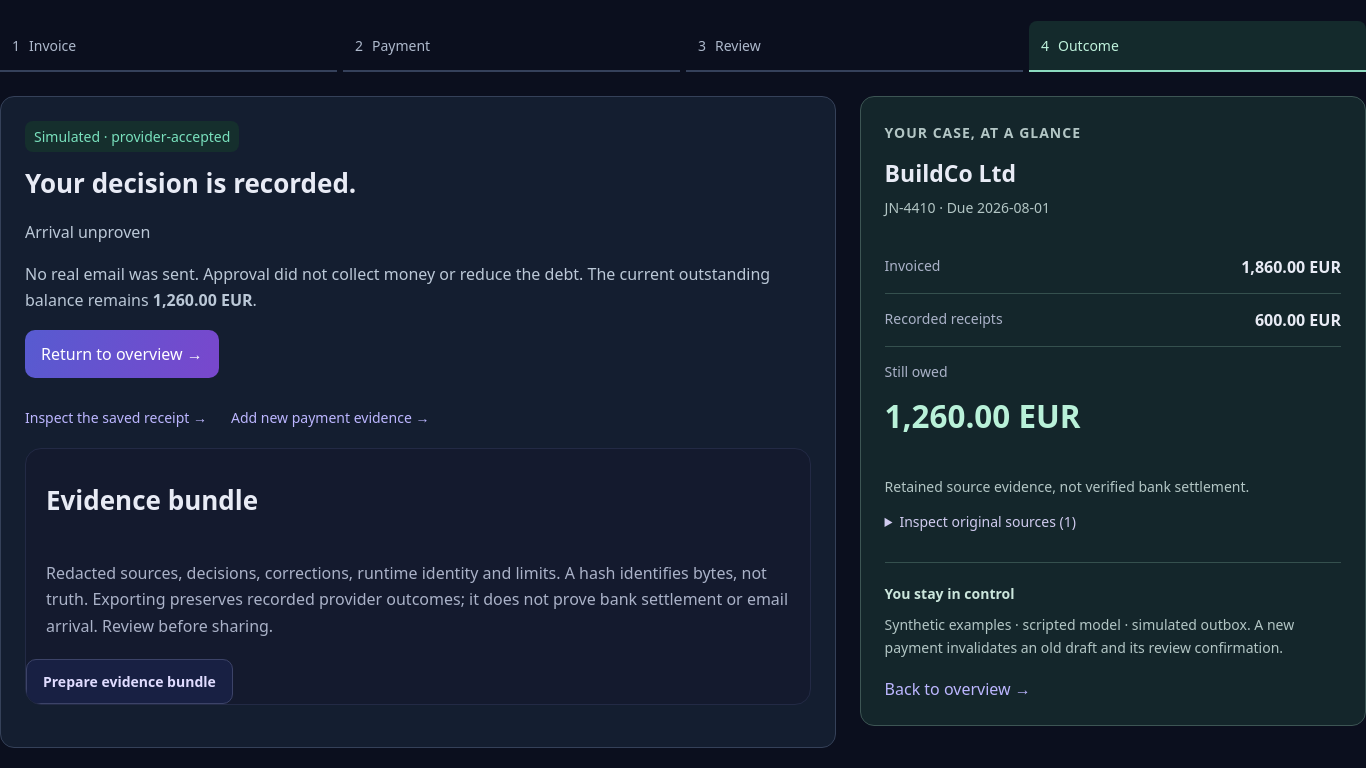
Test: outcome provider-accepted never claims real delivery or recovery of debt
(page scrolled)
Check: the element named "Guided check outcome" shows "No real email was sent", box x1=25 y1=263 x2=583 y2=285
Check: the element named "Guided check outcome" shows "1,260.00 EUR", box x1=153 y1=290 x2=253 y2=312
Click the button "Prepare evidence bundle".
click(129, 682)  # box x1=26 y1=659 x2=233 y2=704
(page scrolled)
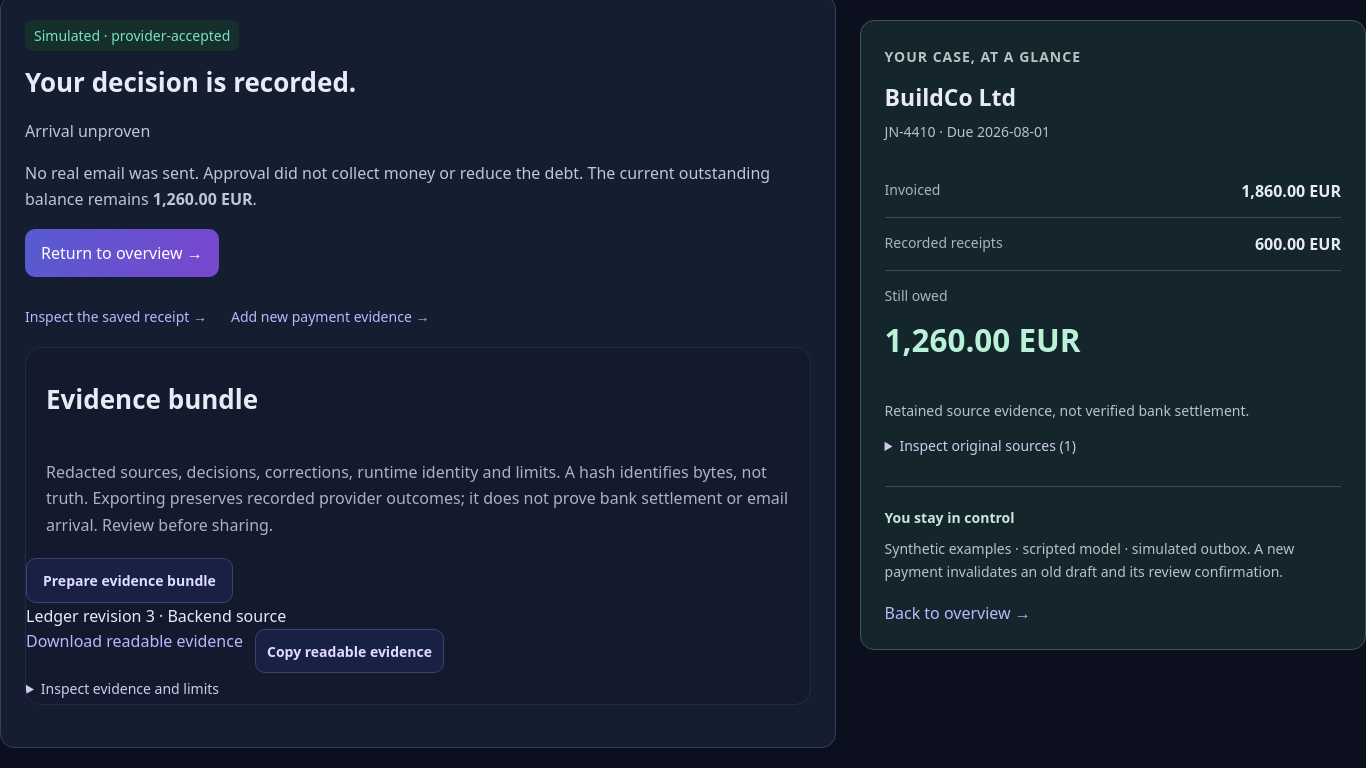
Check: the link "Download readable evidence" is shown, box x1=26 y1=630 x2=243 y2=652
